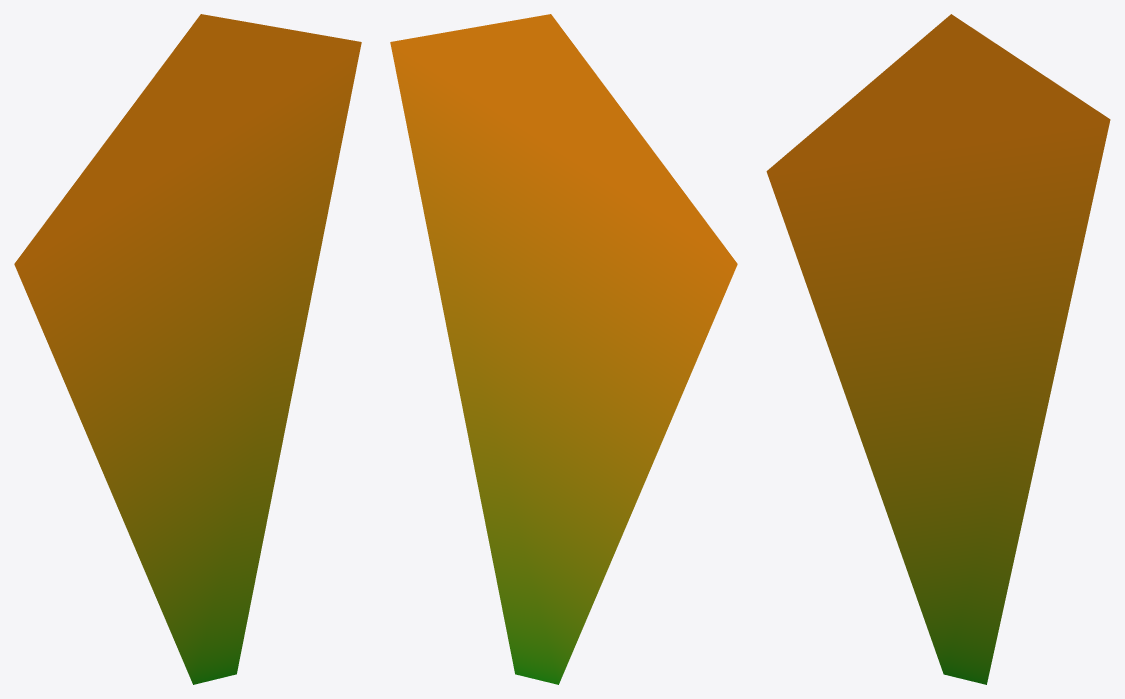
File: Common Eelgrass_LOD4_Var5_sjglk.fbx
3 views of the same model, side by side, from view 1: azimuth 30°, elevation 25°; view 2: azimuth 150°, elevation 25°; view 3: azimuth 330°, elevation 25° (orthographic).
Visible parts, largest first — view 1: _69a8_Var5_LOD4; view 2: _69a8_Var5_LOD4; view 3: _69a8_Var5_LOD4.
Part boxes in pixels (left/top/right/bottom): _69a8_Var5_LOD4: left=14, top=14, right=361, bottom=684; _69a8_Var5_LOD4: left=390, top=14, right=737, bottom=684; _69a8_Var5_LOD4: left=766, top=14, right=1110, bottom=684.
Size of the model in its own units: 59.15 by 109 by 3.58e-06.
